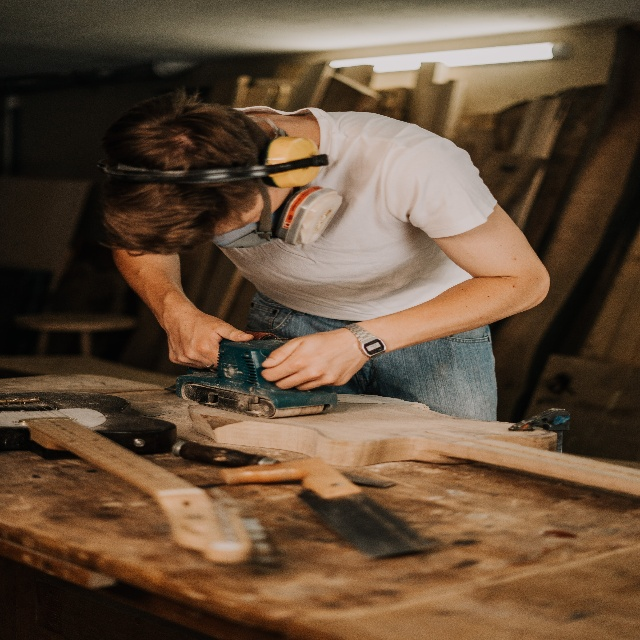Sin_guantes: (262, 323, 367, 397), (164, 293, 254, 372)
